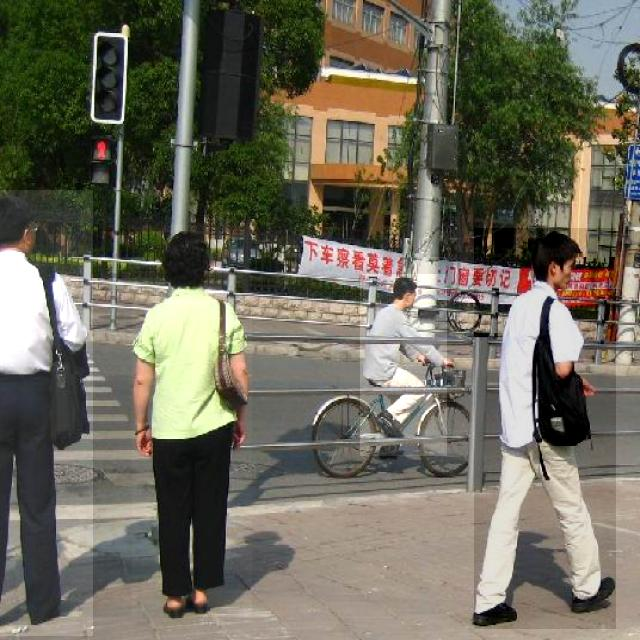with scooter: (474, 228, 616, 629), (132, 225, 252, 617), (0, 190, 93, 636), (360, 274, 447, 456)
